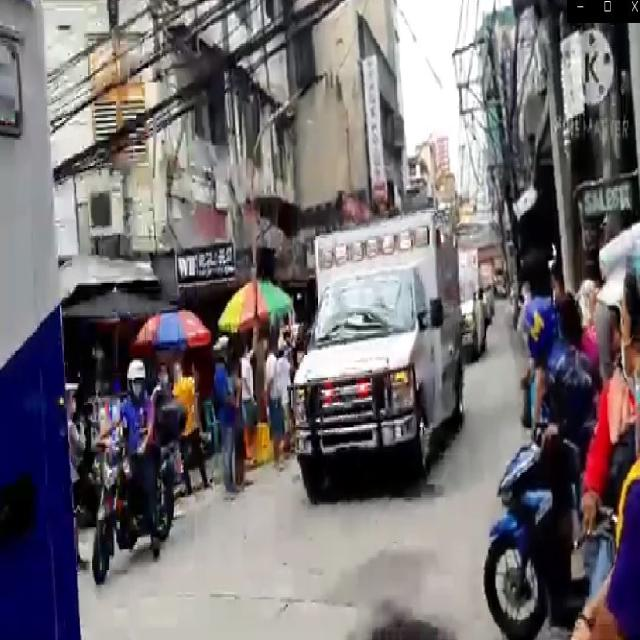emergency: (293, 195, 466, 508), (433, 246, 489, 364)
